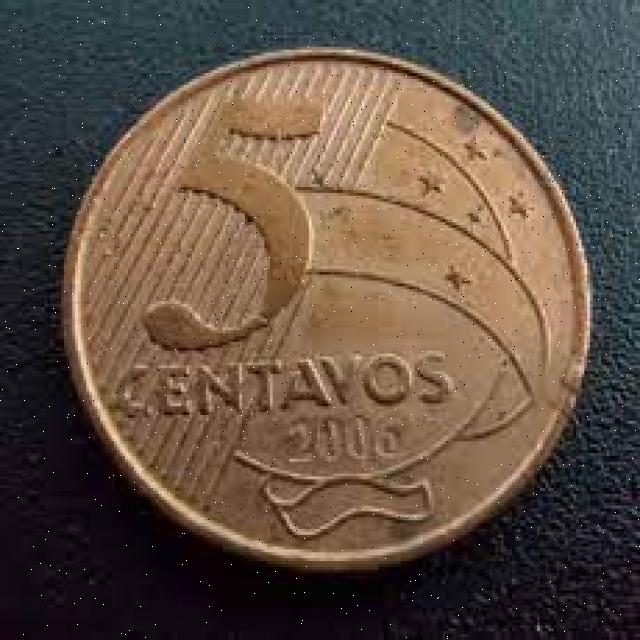5 cent: (74, 48, 580, 558)
